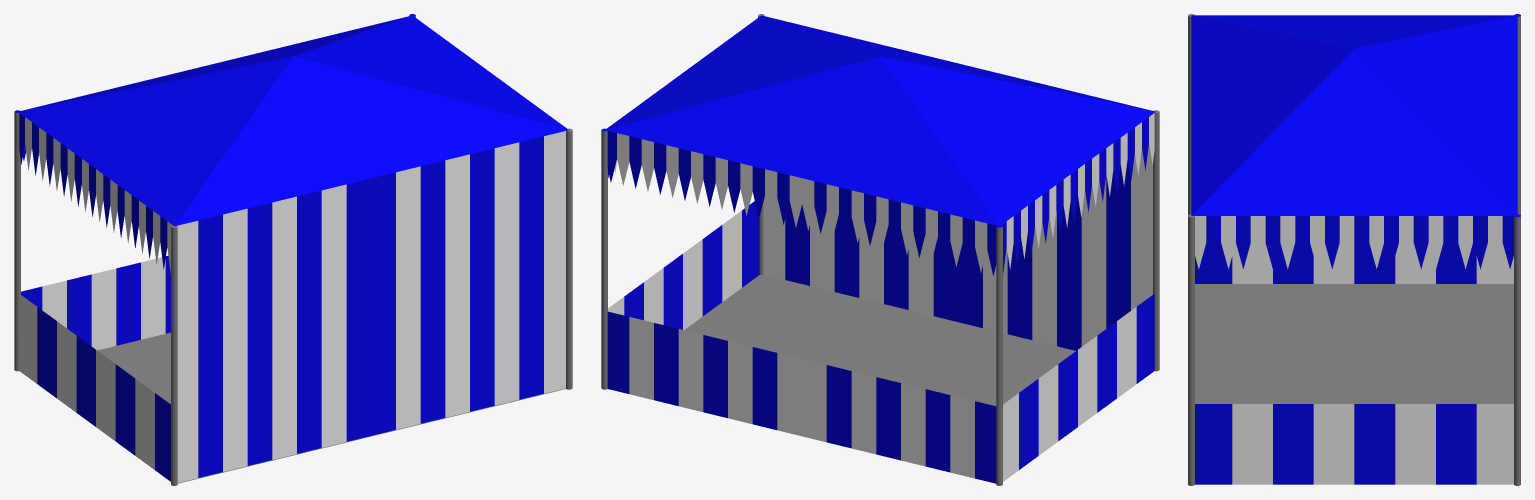
File: ActualBooth_blue.glb
The picture shows the model from 3 angles, left to right: view 1: azimuth 30°, elevation 25°; view 2: azimuth 150°, elevation 25°; view 3: azimuth 270°, elevation 25°; orthographic projection. The views are drawn at different scales.
Visible parts, largest first — view 1: Plane.002_85bb7d, Plane.002_164c4c, Plane.002_9f30d5; view 2: Plane.002_85bb7d, Plane.002_164c4c, Plane.002_9f30d5; view 3: Plane.002_85bb7d, Plane.002_9f30d5, Plane.002_164c4c.
Boxes of the visible parts, x1,y1,x2,y2 form: Plane.002_85bb7d: (14,14,568,481); Plane.002_164c4c: (19,117,565,482); Plane.002_9f30d5: (14,16,572,485); Plane.002_85bb7d: (601,15,1155,483); Plane.002_164c4c: (608,113,1154,481); Plane.002_9f30d5: (601,14,1159,485); Plane.002_85bb7d: (1191,14,1520,484); Plane.002_9f30d5: (1188,14,1520,485); Plane.002_164c4c: (1195,216,1513,484).
Size of the model in its own units: 32.47 by 25 by 22.47.
